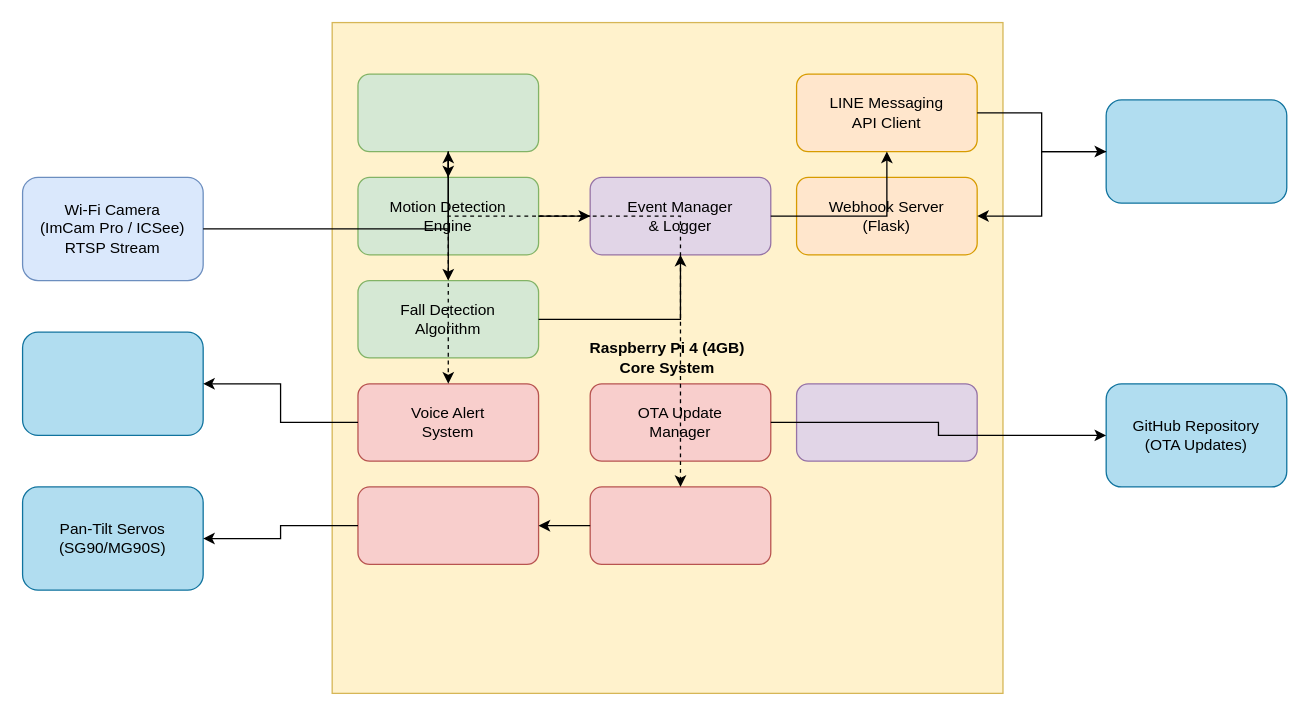
This 1309x716 diagram has some shape labels left out. The shapes that lost their labels are listed below. From the top down, each one's centre as x and y in pixels, then its label:
pixel 448 112: RTSP Stream Handler (OpenCV)
pixel 1196 151: LINE Platform (Messaging API)
pixel 112 383: Speaker (Audio Output)
pixel 886 421: Configuration Manager
pixel 448 525: Pan-Tilt Controller (PCA9685)
pixel 680 525: Auto Tracking Engine
